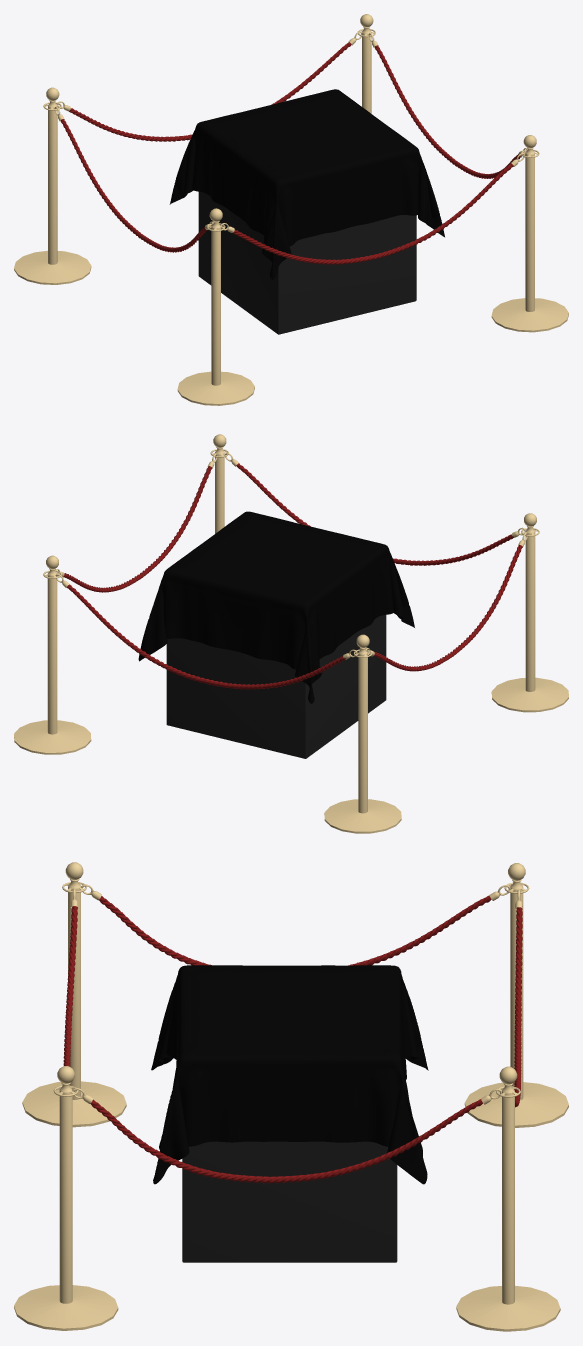
File: absperrung.fbx
3 renders of one model, top to bottom at view 1: azimuth 30°, elevation 25°; view 2: azimuth 150°, elevation 25°; view 3: azimuth 270°, elevation 25°, orthographic. The views are drawn at different scales.
Visible parts, largest first — view 1: stoff, sockel, absperrung_halterung.003, absperrung_halterung.001, absperrung_halterung.004, absperrung_band2, absperrung_band4, absperrung_band1, absperrung_band3, absperrung_halterung.002; view 2: stoff, sockel, absperrung_halterung.002, absperrung_halterung.003, absperrung_halterung.004, absperrung_band4, absperrung_band1, absperrung_band3, absperrung_band2, absperrung_halterung.001; view 3: stoff, sockel, absperrung_halterung.001, absperrung_halterung.002, absperrung_halterung.003, absperrung_halterung.004, absperrung_band3, absperrung_band1, absperrung_band4, absperrung_band2.
Part boxes in pixels (<box>): stoff: <box>169,89,444,279</box>; sockel: <box>198,191,416,334</box>; absperrung_halterung.003: <box>177,208,254,405</box>; absperrung_halterung.001: <box>491,135,568,332</box>; absperrung_halterung.004: <box>14,87,91,284</box>; absperrung_band2: <box>233,163,513,264</box>; absperrung_band4: <box>69,42,351,141</box>; absperrung_band1: <box>60,119,207,252</box>; absperrung_band3: <box>374,45,521,178</box>; absperrung_halterung.002: <box>358,14,375,113</box>; stoff: <box>138,511,414,703</box>; sockel: <box>166,615,386,758</box>; absperrung_halterung.002: <box>14,555,91,754</box>; absperrung_halterung.003: <box>491,513,568,712</box>; absperrung_halterung.004: <box>324,634,401,833</box>; absperrung_band4: <box>66,584,345,689</box>; absperrung_band1: <box>374,544,522,671</box>; absperrung_band3: <box>63,466,212,592</box>; absperrung_band2: <box>236,463,513,565</box>; absperrung_halterung.001: <box>210,434,228,533</box>; stoff: <box>151,965,428,1184</box>; sockel: <box>182,1141,397,1262</box>; absperrung_halterung.001: <box>14,1066,118,1330</box>; absperrung_halterung.002: <box>456,1066,560,1331</box>; absperrung_halterung.003: <box>22,862,126,1127</box>; absperrung_halterung.004: <box>464,863,568,1127</box>; absperrung_band3: <box>89,1099,482,1183</box>; absperrung_band1: <box>97,895,491,965</box>; absperrung_band4: <box>514,906,522,1107</box>; absperrung_band2: <box>63,906,77,1085</box>.
Bounding box in the file's own units: 1528 × 695 × 1442.
